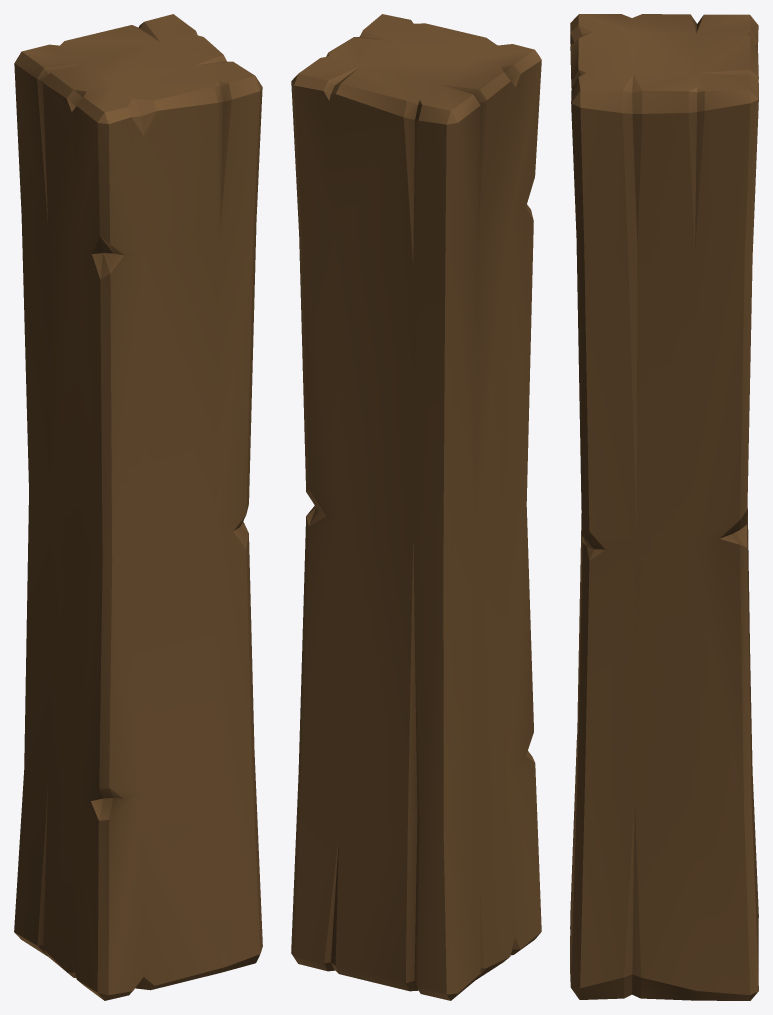
Rendered from obj_woodenBeam_A.FBX.
3 views of the same model, side by side, from view 1: azimuth 30°, elevation 25°; view 2: azimuth 150°, elevation 25°; view 3: azimuth 270°, elevation 25° (orthographic). The views are drawn at different scales.
Visible parts, largest first — view 1: obj_woodenBeam_A; view 2: obj_woodenBeam_A; view 3: obj_woodenBeam_A.
Part boxes in pixels (x1,y1,x2,y2): obj_woodenBeam_A: (14,14,262,1000); obj_woodenBeam_A: (291,14,541,1000); obj_woodenBeam_A: (570,14,758,1000).
Bounding box in the file's own units: 1.18 × 6.03 × 1.13.
